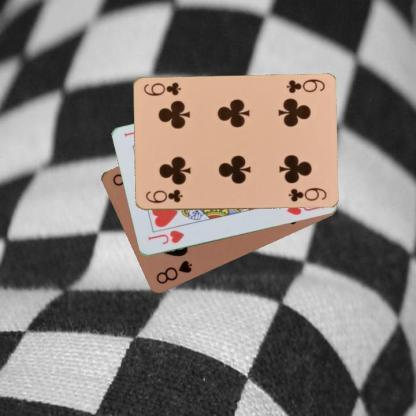6c: (284, 76, 326, 95), (142, 186, 184, 204)
8s: (153, 258, 194, 286)
Jh: (144, 228, 186, 246)
